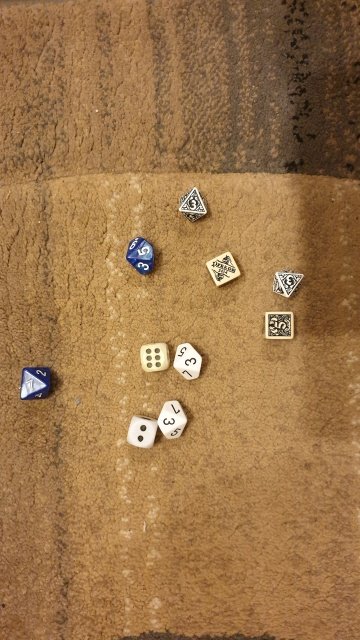d10-3: (172, 340, 211, 386), (156, 403, 193, 442)
d10-5: (121, 229, 160, 282)
d10-7: (11, 363, 57, 409)
d6-2: (121, 413, 160, 453)
d6-6: (137, 340, 172, 374)
d6p-1: (203, 247, 244, 288)
d6p-5: (262, 307, 298, 342)
d8p-3: (172, 184, 215, 225), (270, 266, 308, 302)
